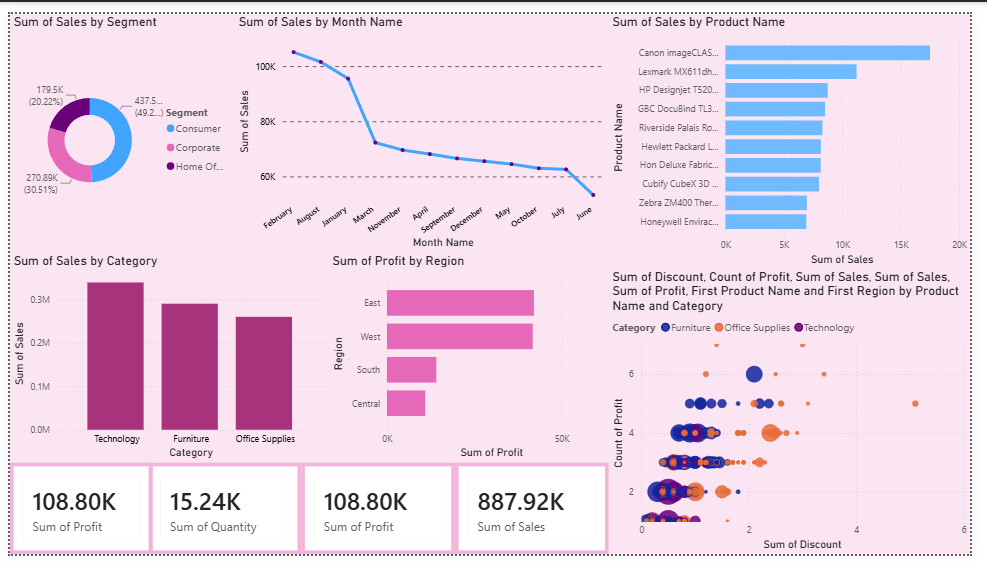

The page's visual inventory and layout, read from the dashboard file:
{"tool":"powerbi","page":{"name":"Page 1","canvas":[1280,720],"ordinal":0},"visuals":[{"type":"cardVisual","fields":{"Data":["Sum(superstore.Sales)"]},"box":[592.5,597.5,205,122.5],"z":0},{"type":"cardVisual","fields":{"Data":["Sum(superstore.Quantity)"]},"box":[182.5,597.5,205,122.5],"z":1000},{"type":"cardVisual","fields":{"Data":["Sum(superstore.Profit)"]},"box":[387.5,597.5,205,122.5],"z":2000},{"type":"cardVisual","fields":{"Data":["Sum(superstore.Profit)"]},"box":[0,597.5,190,122.5],"z":3000},{"type":"lineChart","fields":{"Y":["Sum(superstore.Sales)"],"Category":["superstore.Month Name"]},"box":[300,0,497.5,317.5],"z":4000},{"type":"clusteredColumnChart","fields":{"Category":["superstore.Category"],"Y":["Sum(superstore.Sales)"]},"box":[0,317.5,425,280],"z":5000},{"type":"clusteredBarChart","fields":{"Category":["superstore.Region"],"Y":["Sum(superstore.Profit)"]},"box":[425,317.5,372.5,280],"z":6000},{"type":"donutChart","fields":{"Category":["superstore.Segment"],"Y":["Sum(superstore.Sales)"]},"box":[0,0,300,317.5],"z":7000},{"type":"clusteredBarChart","fields":{"Y":["Sum(superstore.Sales)"],"Category":["superstore.Product Name"]},"box":[797.5,0,482.5,340],"z":8000},{"type":"scatterChart","fields":{"Category":["superstore.Product Name"],"X":["Sum(superstore.Discount)"],"Y":["Count(superstore.Profit)"],"Size":["Sum(superstore.Sales)"],"Series":["superstore.Category"]},"box":[797.5,340,482.5,380],"z":9000}]}

Visuals, with their boxes in screenshot pixels (x1, y1, x2, y2), scaled from the page's 1280x720 canvas onto the 987x571 screenshot:
cardVisual - Sum(superstore.Sales): x1=457 y1=474 x2=615 y2=570
cardVisual - Sum(superstore.Quantity): x1=141 y1=474 x2=299 y2=570
cardVisual - Sum(superstore.Profit): x1=299 y1=474 x2=457 y2=570
cardVisual - Sum(superstore.Profit): x1=0 y1=474 x2=147 y2=570
lineChart - Sum(superstore.Sales) x superstore.Month Name: x1=231 y1=0 x2=615 y2=252
clusteredColumnChart - superstore.Category x Sum(superstore.Sales): x1=0 y1=252 x2=328 y2=474
clusteredBarChart - superstore.Region x Sum(superstore.Profit): x1=328 y1=252 x2=615 y2=474
donutChart - superstore.Segment x Sum(superstore.Sales): x1=0 y1=0 x2=231 y2=252
clusteredBarChart - Sum(superstore.Sales) x superstore.Product Name: x1=615 y1=0 x2=986 y2=270
scatterChart - superstore.Product Name x Sum(superstore.Discount): x1=615 y1=270 x2=986 y2=570
